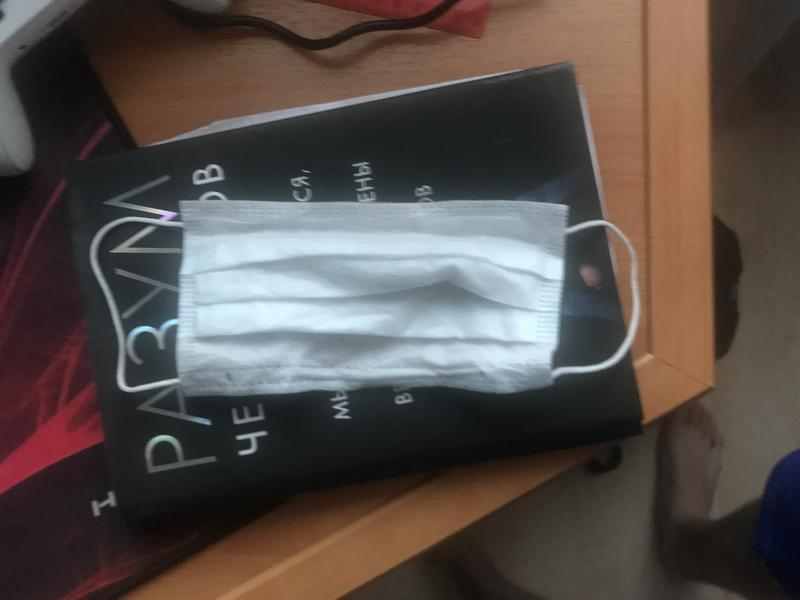medical_mask: (88, 213, 640, 394)
